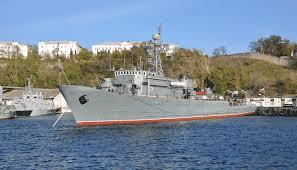Ship: (61, 45, 256, 127)
